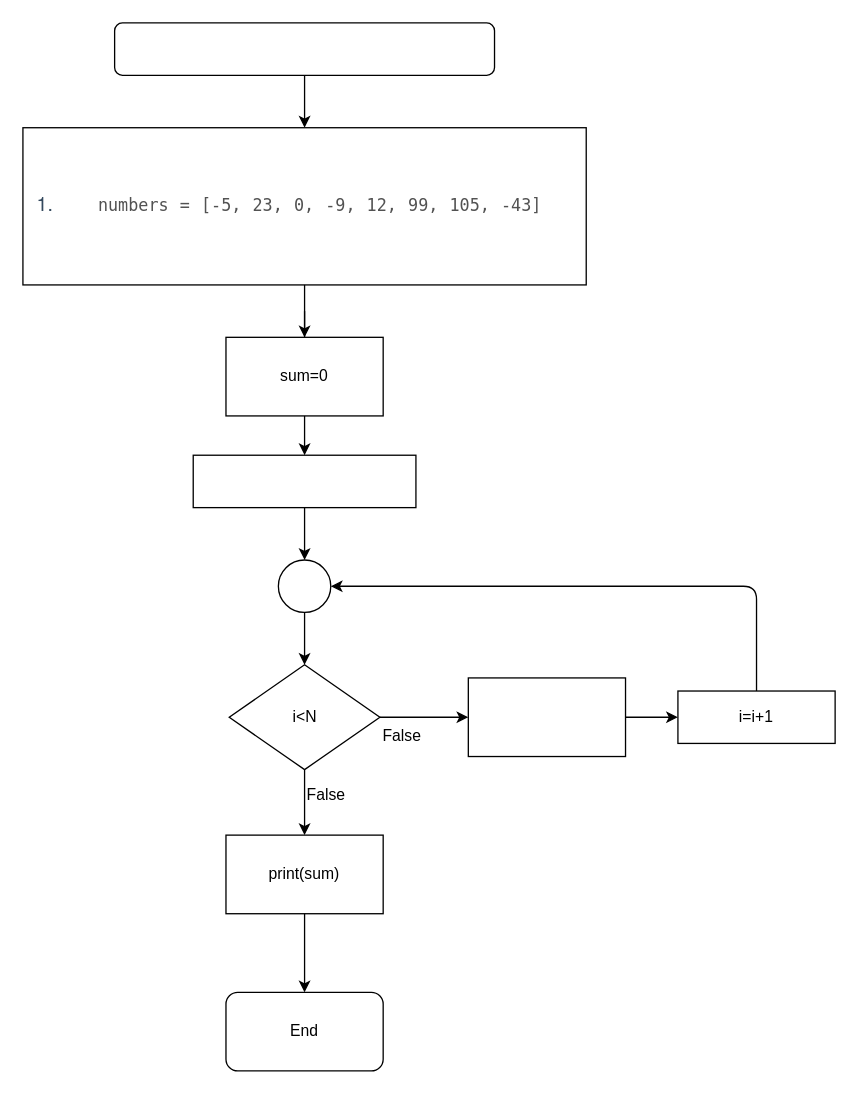
Image size: 858x1094. Some labels were removed from this diagram. Each missing label, with the box of its shape:
i=1: (192, 454, 416, 508)
Start: (113, 22, 495, 75)
sum=sum+numbers[i]: (467, 677, 626, 757)
